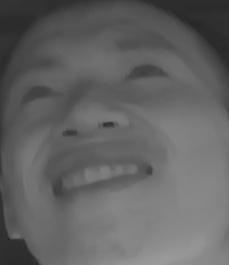eye: (120, 60, 171, 87), (19, 81, 61, 108)
mouth: (44, 148, 155, 205)
